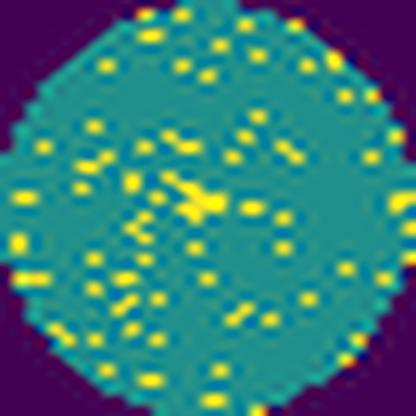Center: (150, 159, 240, 229)
